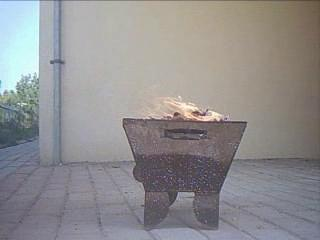fire: (154, 91, 225, 120)
